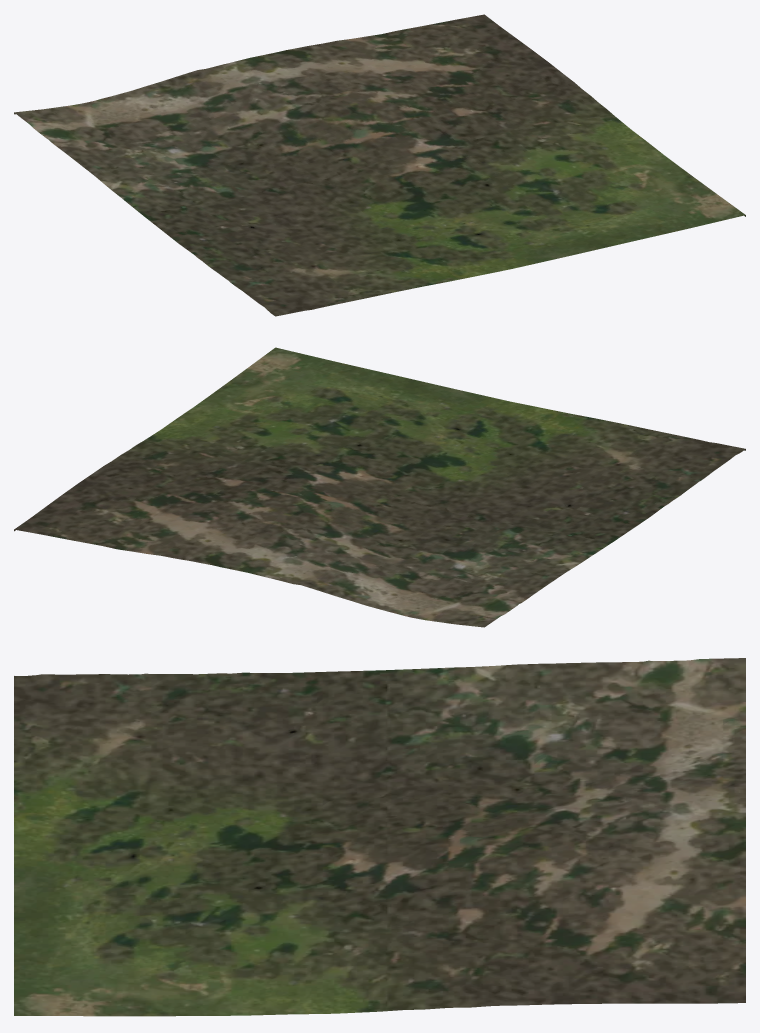
3 renders of one model, top to bottom at view 1: azimuth 30°, elevation 25°; view 2: azimuth 150°, elevation 25°; view 3: azimuth 270°, elevation 25°, orthographic. The views are drawn at different scales.
Size of the model in its own units: 250 by 14.36 by 241.
1 material, 1 textured.
